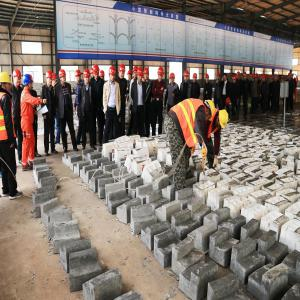blue: (23, 74, 34, 90)
none: (223, 74, 229, 83)
red: (13, 69, 22, 87), (83, 69, 92, 85), (109, 66, 117, 84), (46, 70, 54, 86), (59, 69, 67, 85), (52, 73, 59, 89), (94, 65, 101, 81), (120, 64, 127, 80), (158, 67, 165, 83), (138, 68, 145, 83), (75, 70, 82, 84), (144, 68, 150, 82), (170, 73, 177, 85), (184, 70, 190, 84), (133, 67, 139, 80), (100, 71, 106, 82), (193, 73, 199, 83), (128, 71, 133, 81), (206, 74, 211, 84), (91, 68, 95, 79), (217, 72, 221, 82), (233, 76, 238, 84), (244, 72, 248, 81), (256, 74, 260, 83), (237, 72, 241, 80), (252, 74, 256, 82), (262, 75, 266, 83), (275, 74, 279, 82), (289, 73, 293, 79)
yellow: (1, 71, 13, 98), (204, 99, 216, 125), (217, 109, 230, 131)
